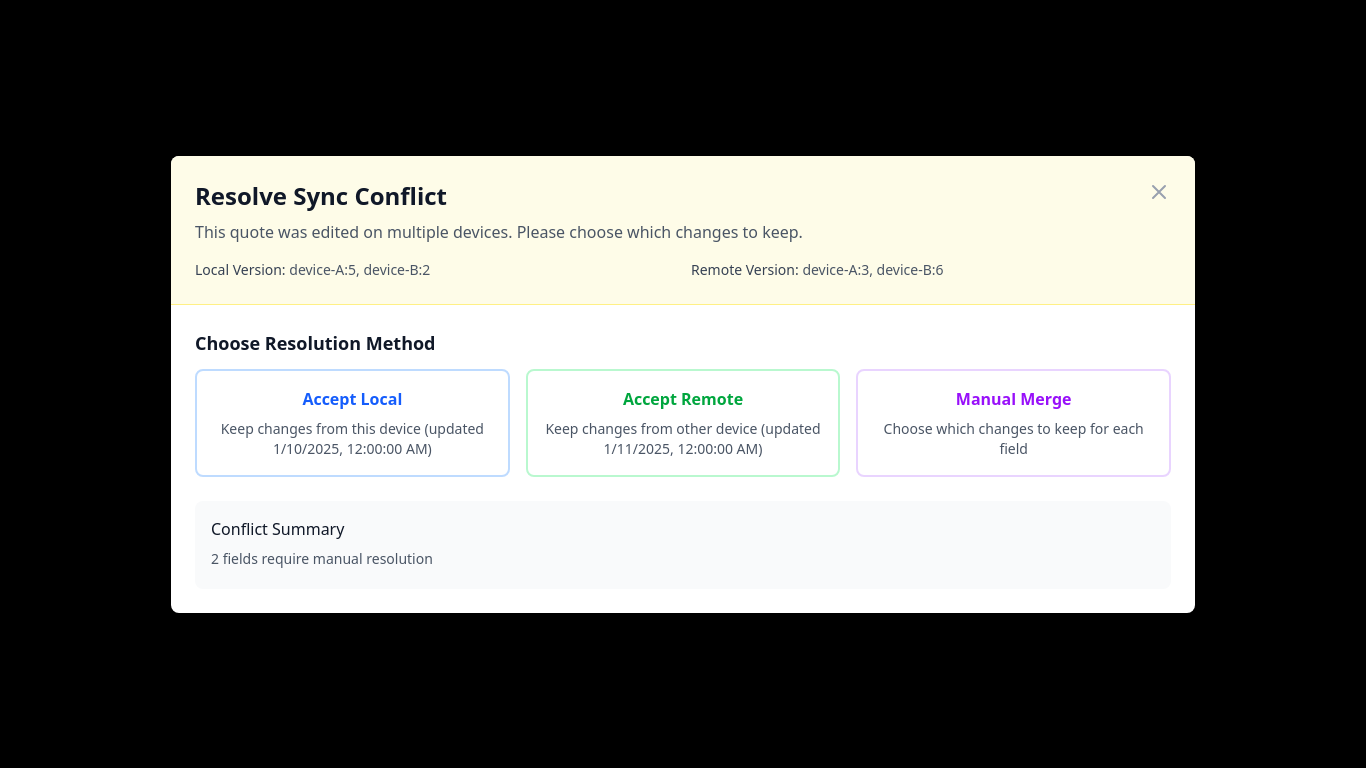
Scenario: ConflictResolver › Cancel › returns to quick actions when Cancel is clicked in manual mode
Click the text "Manual Merge".
click(1014, 398)  # box [956,388,1072,410]
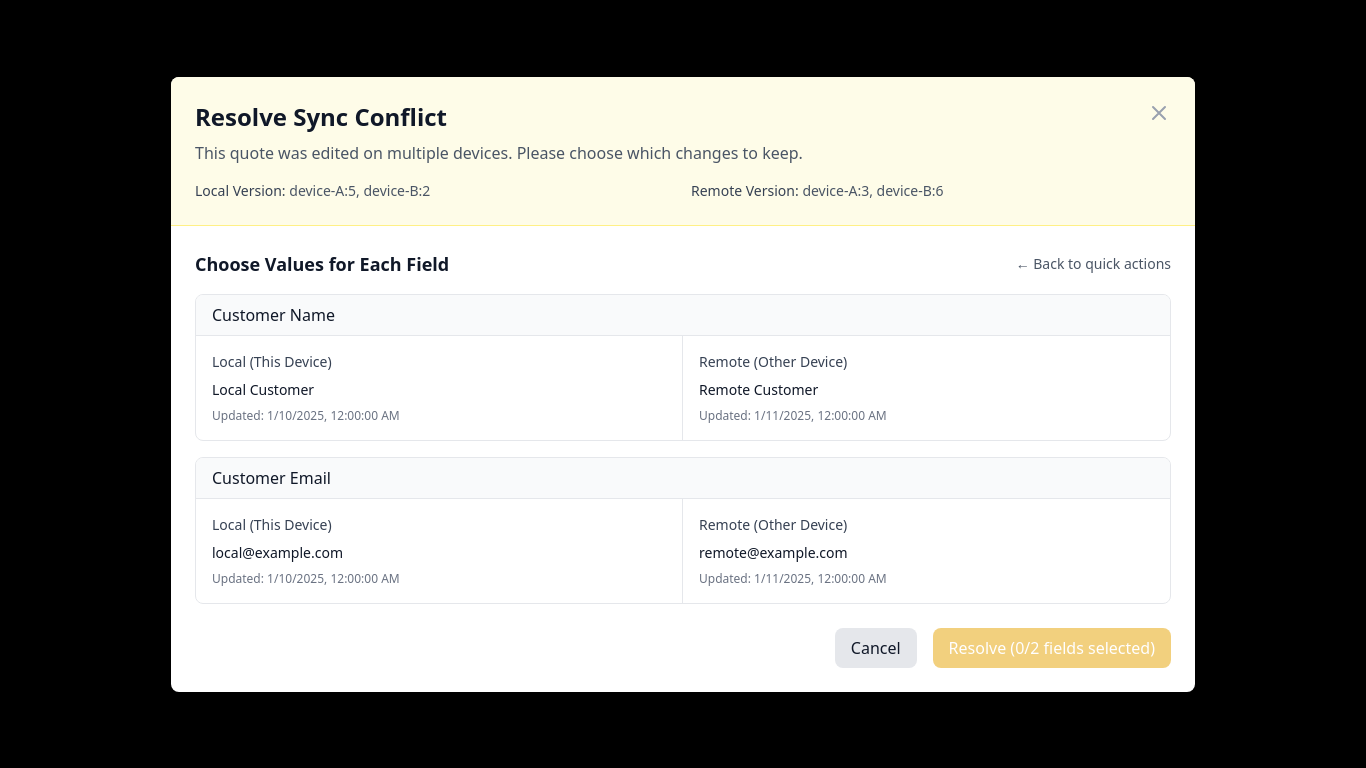
Now the heading "Choose Values for Each Field" is shown, box [195,250,449,278]
Click the button "Cancel".
click(876, 648)  # box [835,628,917,668]
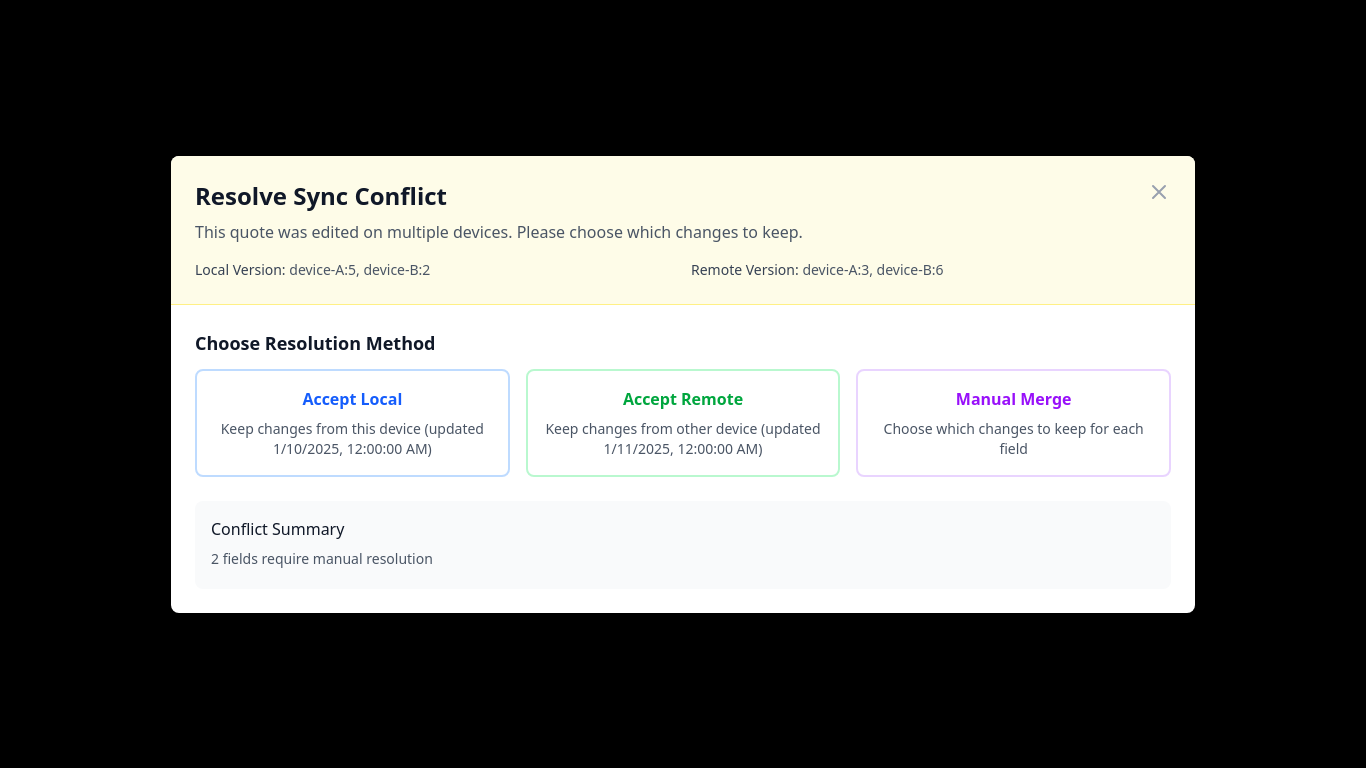
Now the heading "Choose Resolution Method" is shown, box [195,330,436,354]
Now the heading "Choose Values for Each Field" is gone
